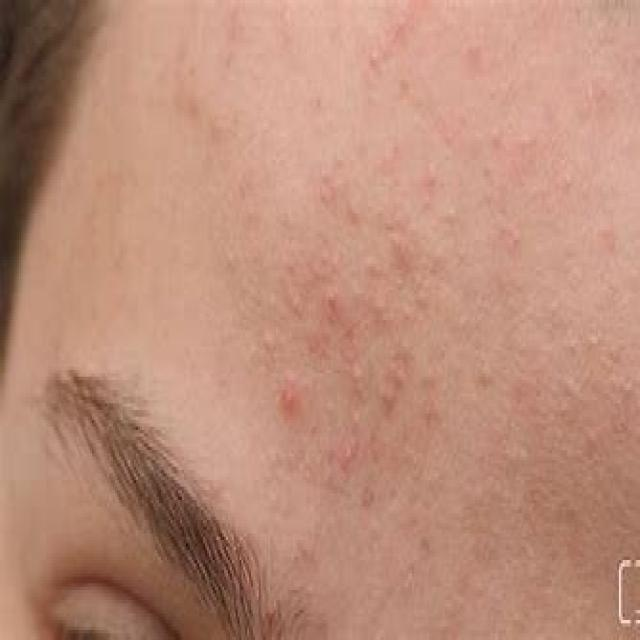fungal: (171, 14, 598, 568)
